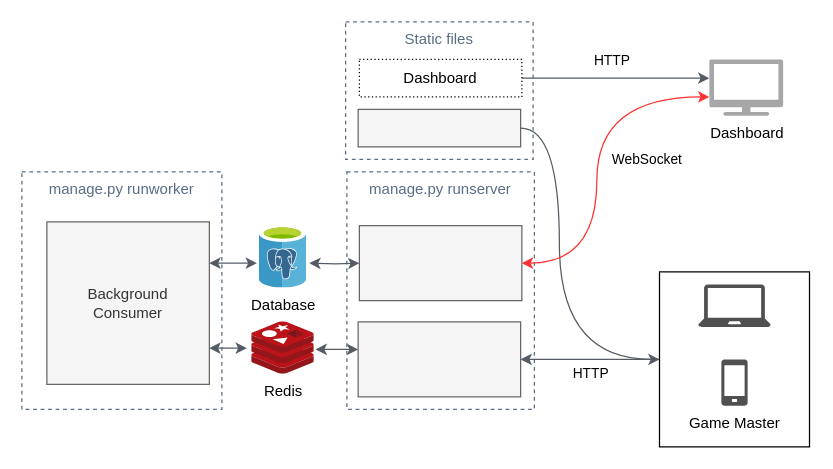
Some shapes in this 833 by 469 pixel diagram are drawn without their labels. Here are the shapes that lost their labels. From the top down, the centre of each, then its label:
the point at 439,127: Django Static Files
the point at 440,262: Game Consumer
the point at 734,305: Admin UI
the point at 439,359: Django Application
